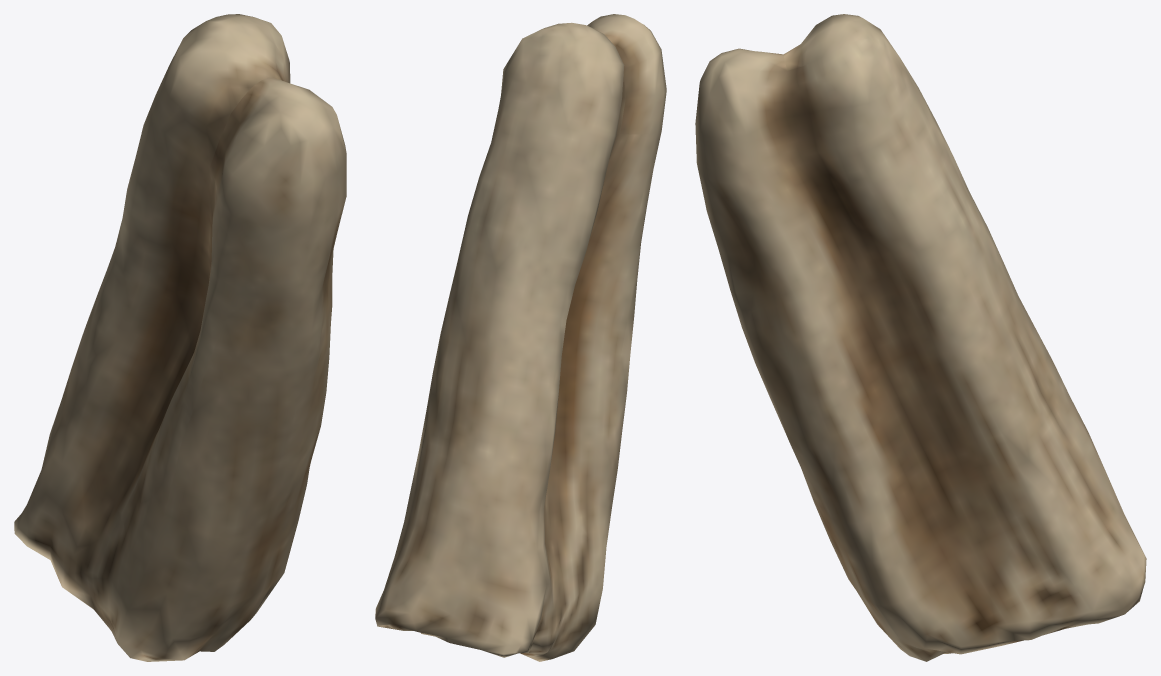
Rendered from Maxilary_Molar.glb.
3 renders of one model, left to right at view 1: azimuth 30°, elevation 25°; view 2: azimuth 150°, elevation 25°; view 3: azimuth 270°, elevation 25°, orthographic. The views are drawn at different scales.
Visible parts, largest first — view 1: Group62330_Mesh.066; view 2: Group62330_Mesh.066; view 3: Group62330_Mesh.066.
Boxes of the visible parts, bbox=[...] form: Group62330_Mesh.066: bbox=[14, 14, 346, 661]; Group62330_Mesh.066: bbox=[375, 14, 666, 661]; Group62330_Mesh.066: bbox=[695, 14, 1146, 661].
Size of the model in its own units: 0.0186 by 0.0691 by 0.0446.
1 material, 1 textured.
